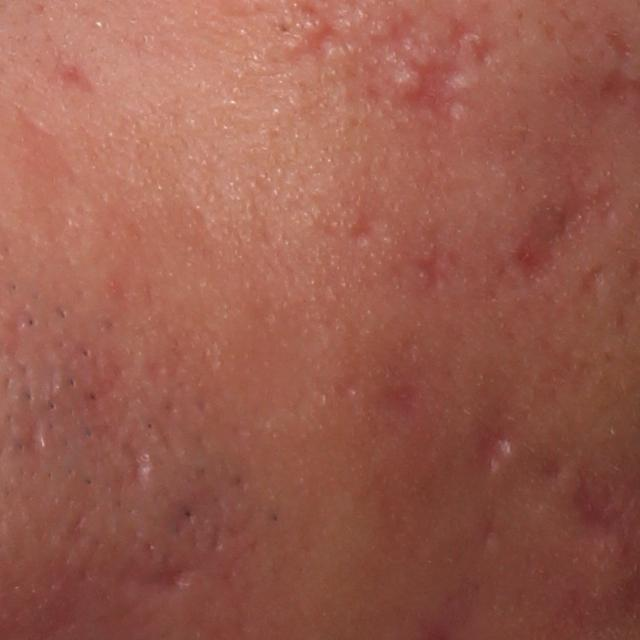atrophic_scar: (505, 179, 623, 285), (390, 54, 472, 128), (401, 239, 455, 296), (340, 194, 386, 248), (472, 423, 517, 477), (143, 552, 203, 590), (51, 51, 96, 97), (124, 434, 153, 491), (578, 264, 606, 308), (602, 27, 635, 63), (468, 38, 498, 67)
hypertrophic_scar: (387, 64, 430, 95), (447, 69, 479, 98)
